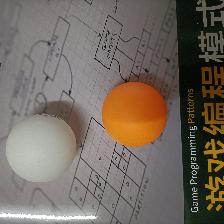WhiteBall: (4, 113, 77, 182)
YellowBall: (100, 82, 167, 146)
